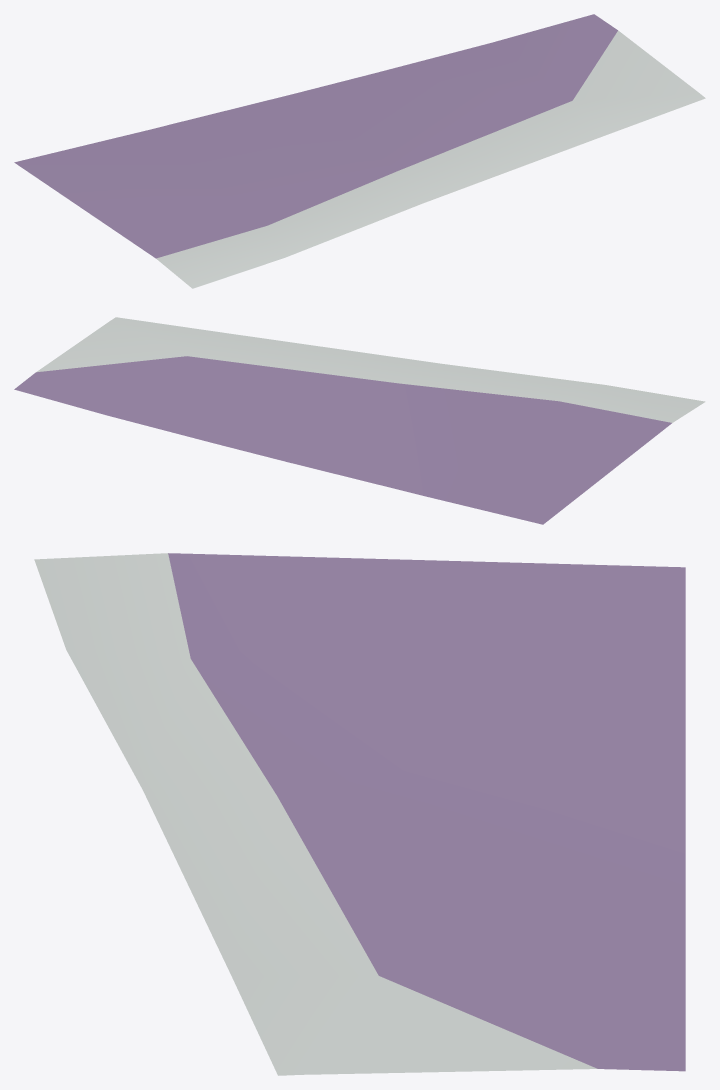
The picture shows the model from 3 angles, top to bottom: view 1: azimuth 30°, elevation 25°; view 2: azimuth 150°, elevation 25°; view 3: azimuth 270°, elevation 25°; orthographic projection. The views are drawn at different scales.
Visible parts, largest first — view 1: G:\FFXIV-MapTools\exports\m5f1\bg\ex4\02_mid_m5\fld\m5f1\bgp (×2); view 2: G:\FFXIV-MapTools\exports\m5f1\bg\ex4\02_mid_m5\fld\m5f1\bgp (×2); view 3: G:\FFXIV-MapTools\exports\m5f1\bg\ex4\02_mid_m5\fld\m5f1\bgp (×2).
Part boxes in pixels (x1,y1,x2,y2): G:\FFXIV-MapTools\exports\m5f1\bg\ex4\02_mid_m5\fld\m5f1\bgp (×2): [14, 14, 705, 288]; G:\FFXIV-MapTools\exports\m5f1\bg\ex4\02_mid_m5\fld\m5f1\bgp (×2): [14, 317, 705, 524]; G:\FFXIV-MapTools\exports\m5f1\bg\ex4\02_mid_m5\fld\m5f1\bgp (×2): [34, 553, 685, 1075].
Size of the model in its own units: 128 by 1.78 by 68.25.
